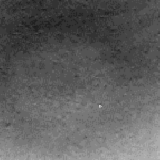Target: (97, 104, 103, 109)
